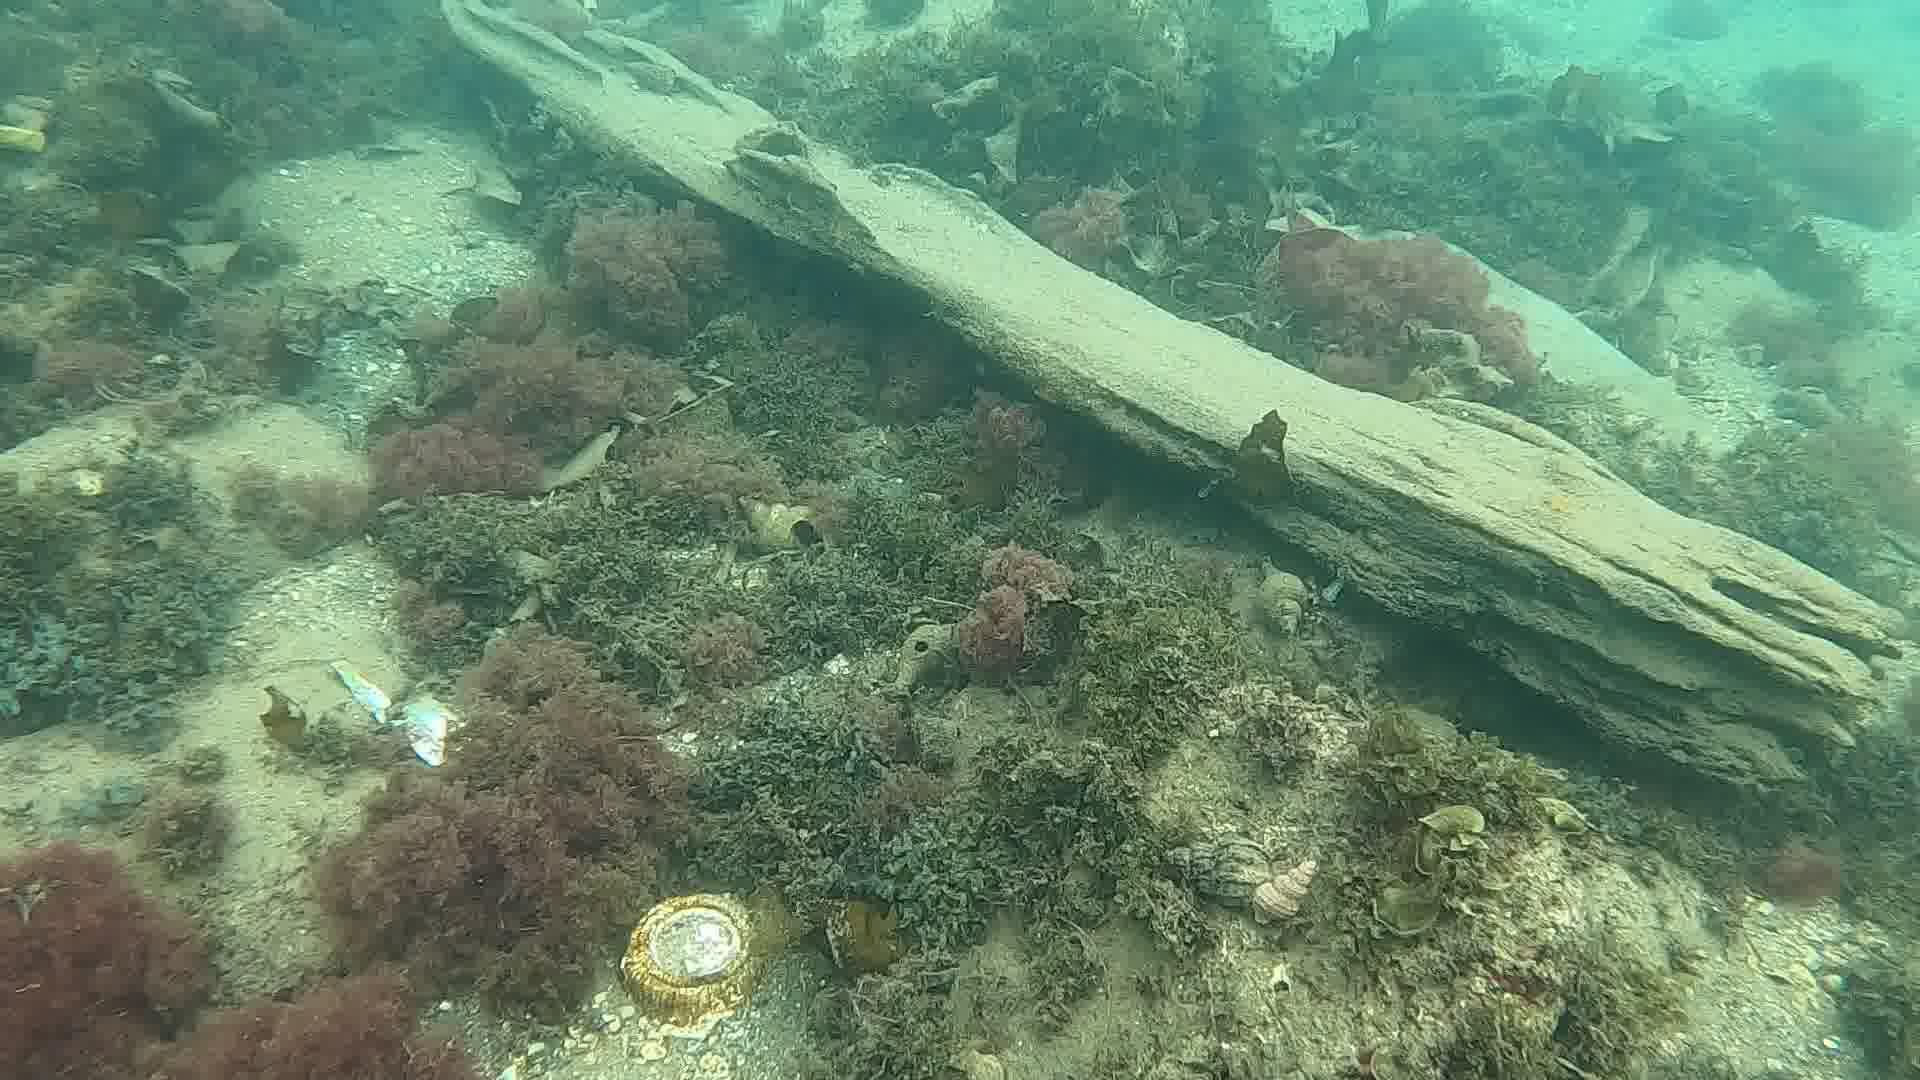wood: (438, 0, 1907, 800)
